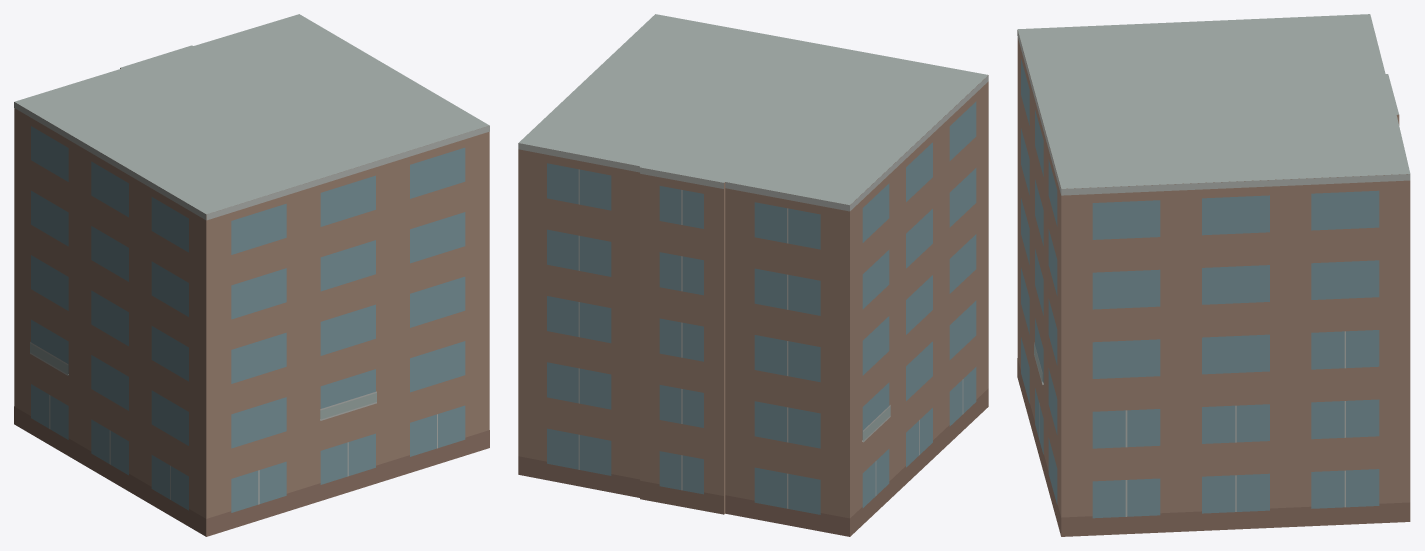
File: survey-upis-32653057.glb
3 renders of one model, left to right at view 1: azimuth 30°, elevation 25°; view 2: azimuth 150°, elevation 25°; view 3: azimuth 270°, elevation 25°, orthographic. The views are drawn at different scales.
Parts seen in each view (by area): view 1: survey-upis-32653057.tmp; view 2: survey-upis-32653057.tmp; view 3: survey-upis-32653057.tmp.
Part boxes in pixels (x1,y1,x2,y2): survey-upis-32653057.tmp: (14,14,489,536); survey-upis-32653057.tmp: (518,14,988,536); survey-upis-32653057.tmp: (1017,14,1410,536).
Bounding box in the file's own units: 13.93 × 12.9 × 13.22.
